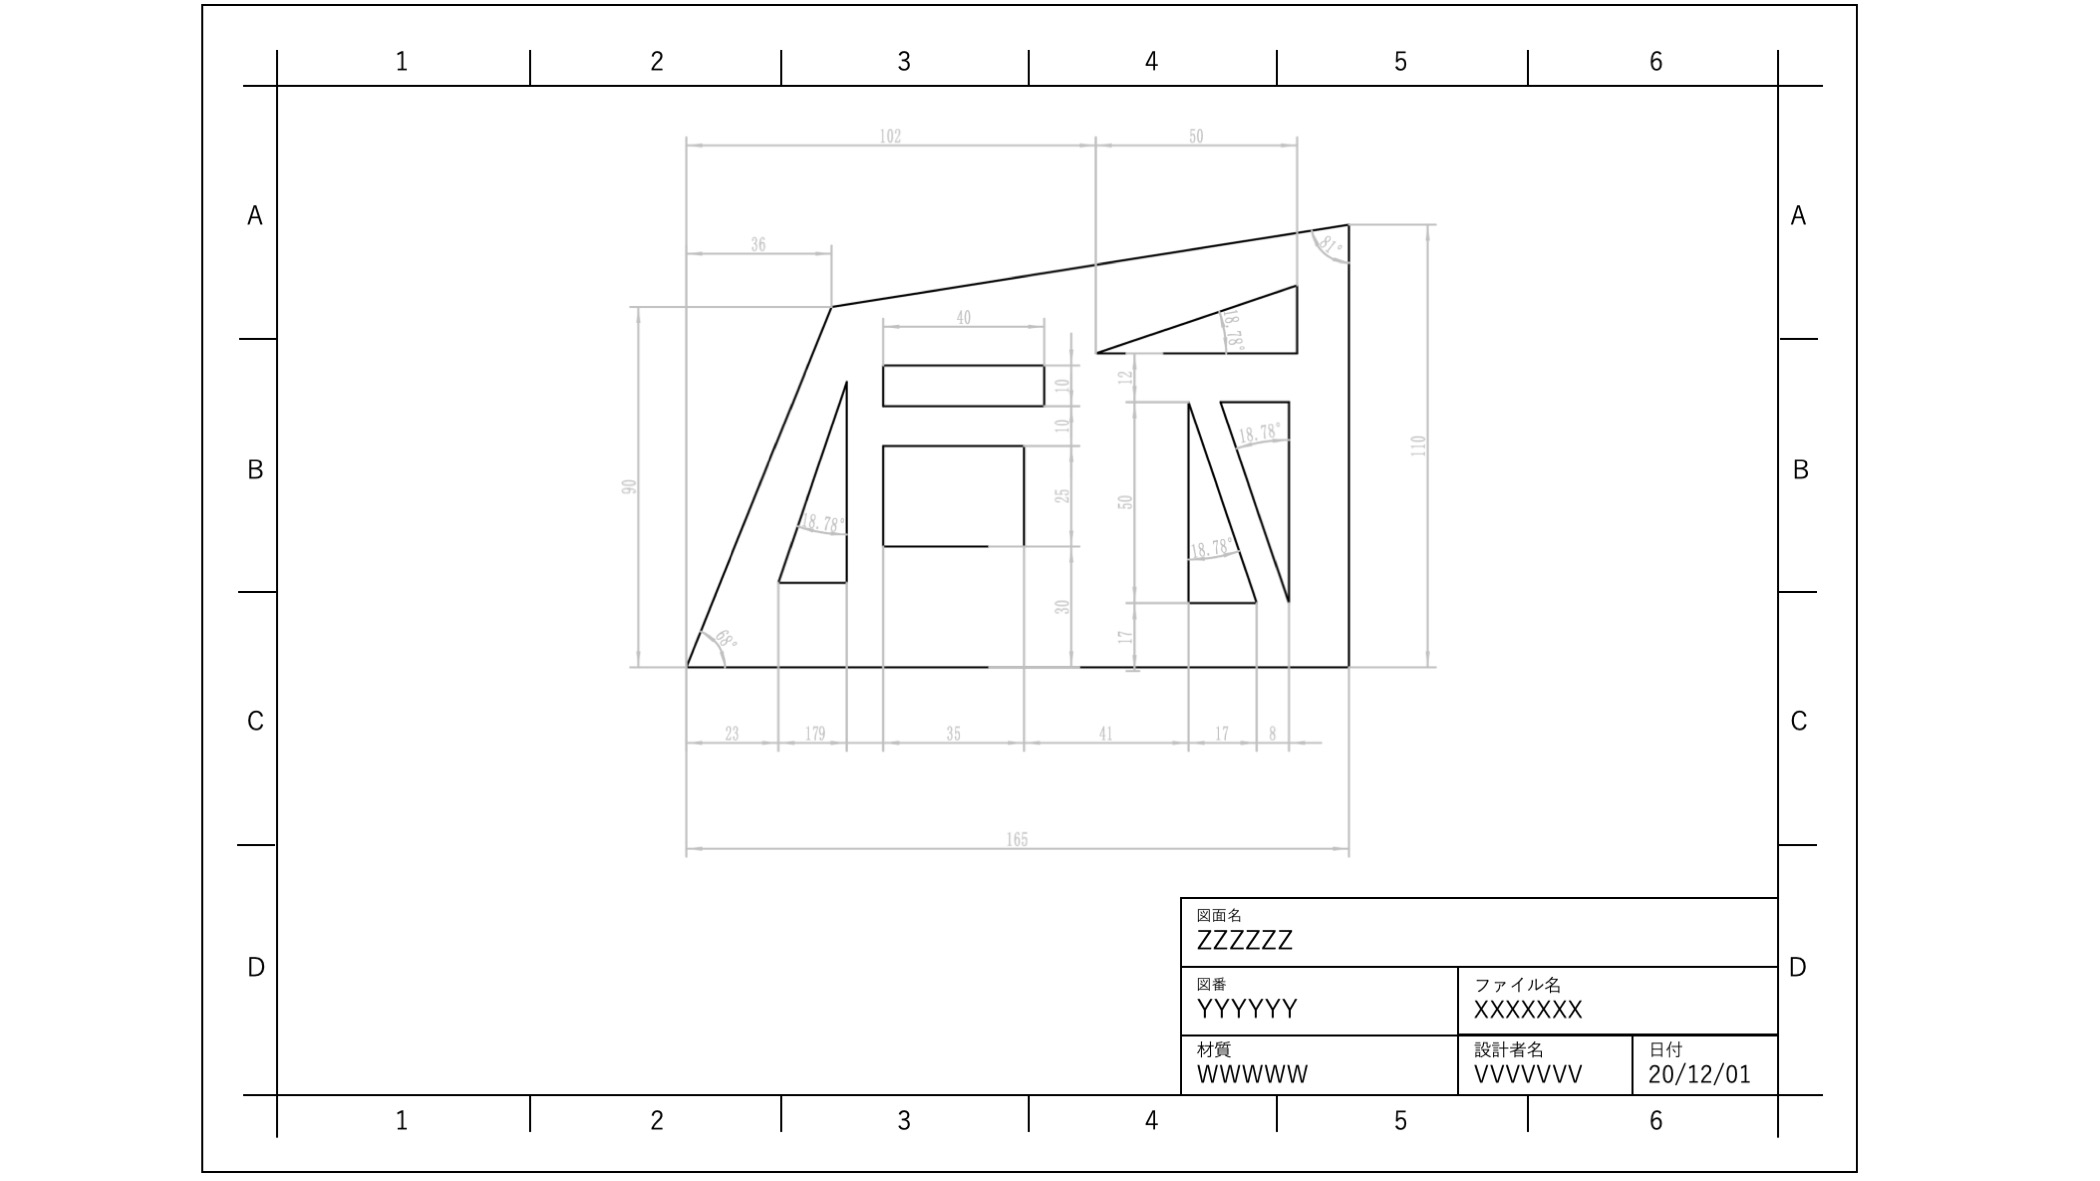rectangle: (875, 435, 1033, 559), (871, 353, 1053, 412)
triangle: (1090, 277, 1302, 363), (1178, 395, 1259, 610), (773, 373, 852, 591), (1217, 395, 1294, 610)
